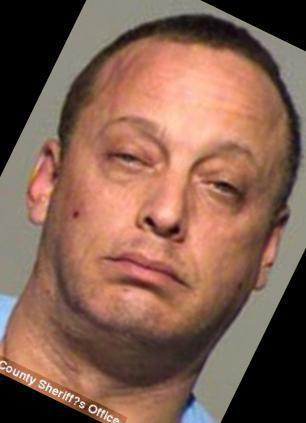Drunk: (85, 44, 263, 341)
